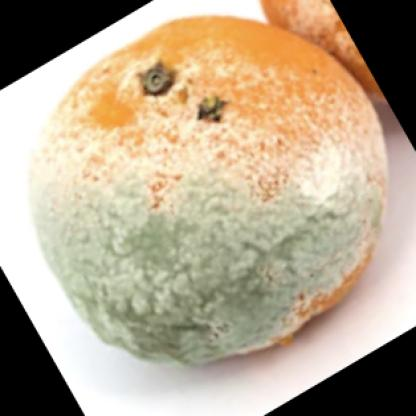rotten: (29, 18, 391, 367)
